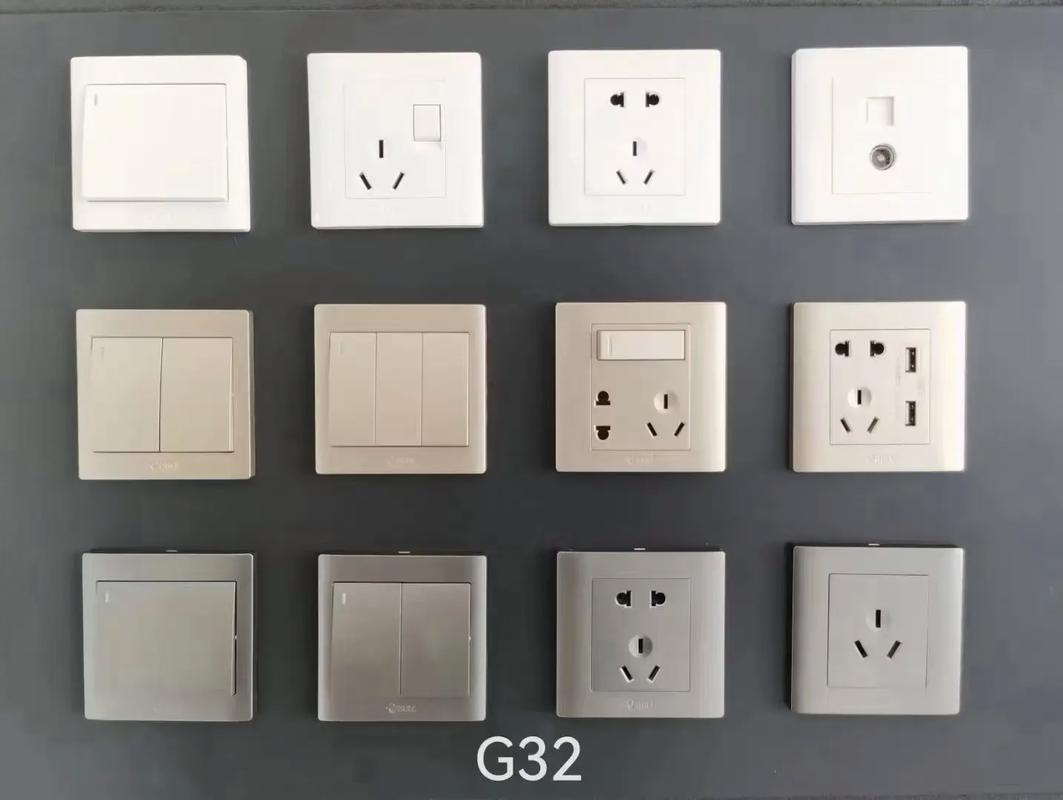button: (71, 55, 254, 236), (73, 309, 255, 481), (309, 52, 483, 229), (551, 301, 731, 472), (312, 302, 487, 473), (316, 552, 492, 722), (81, 550, 257, 719)
